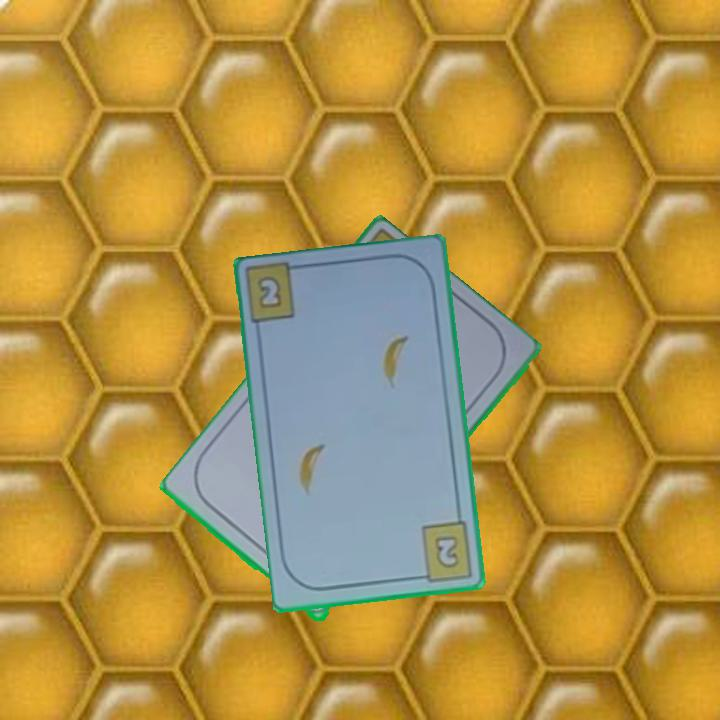2b: (411, 518, 475, 584), (254, 272, 285, 313)
